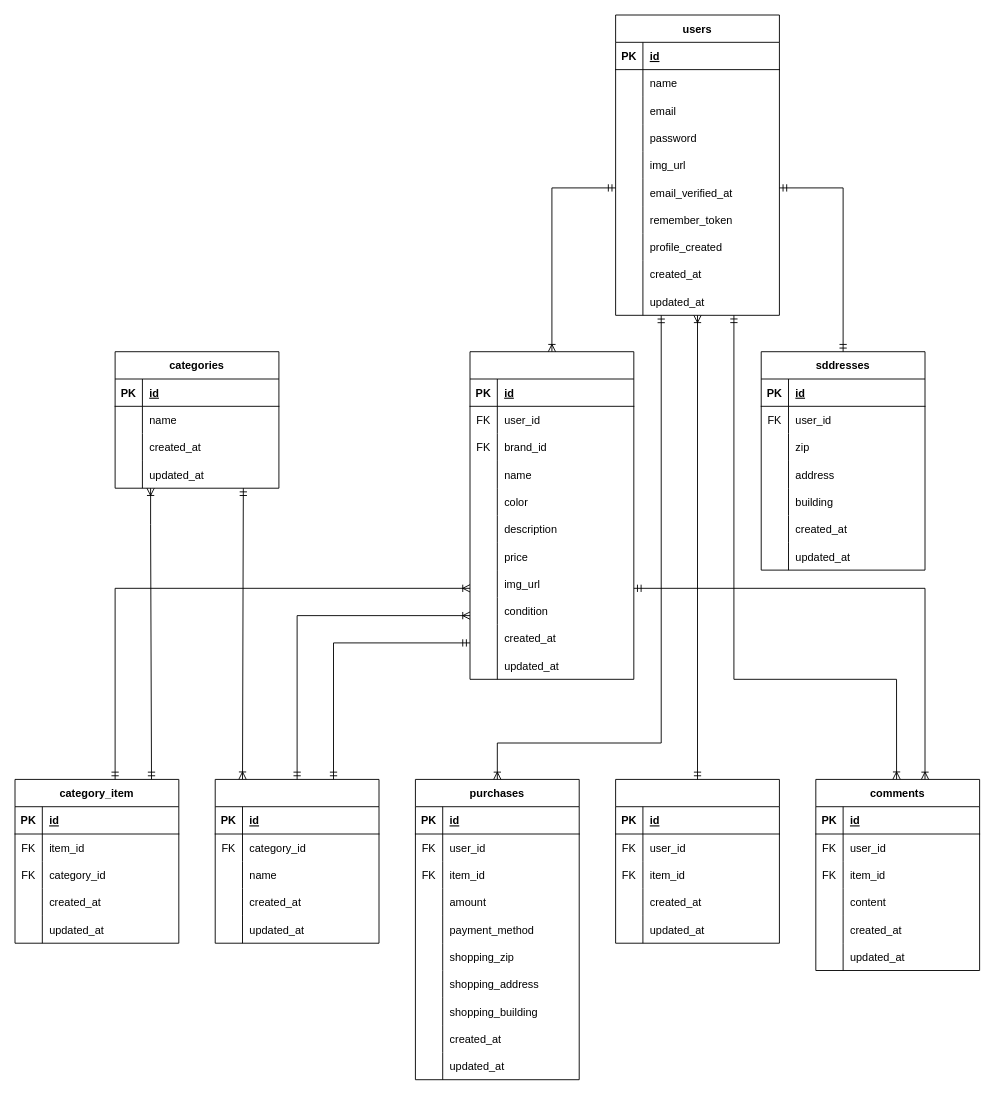
Image size: 995x1095. Some labels were removed from this diagram. The box of each missing label's shape, as (x1, y1, x2, y2) in pixels:
brands: (214, 779, 379, 943)
favorites: (615, 779, 779, 943)
items: (469, 351, 634, 679)
